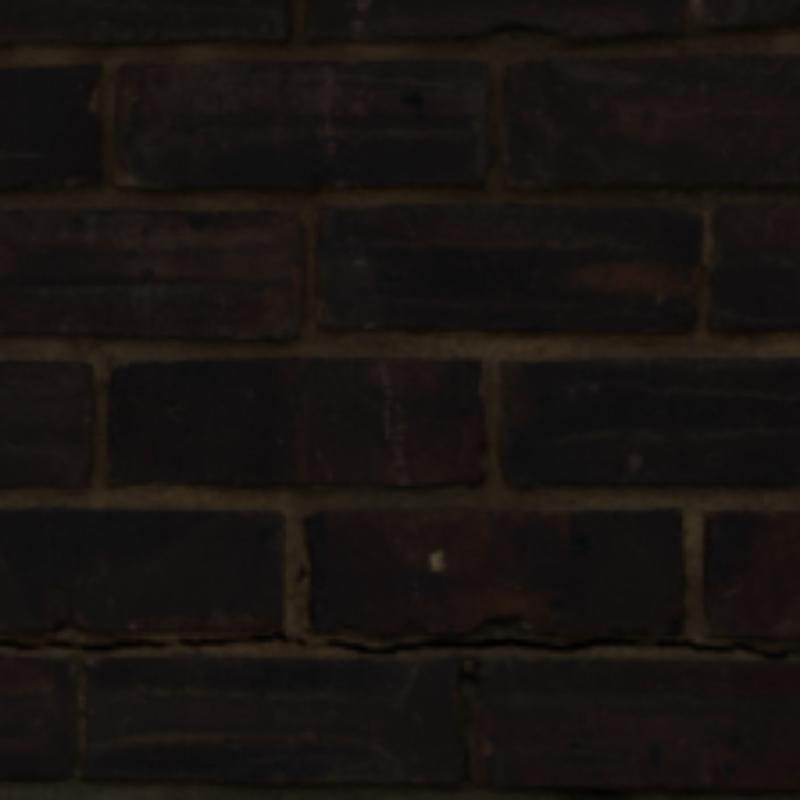crack: (175, 632, 796, 654), (0, 639, 175, 650)
